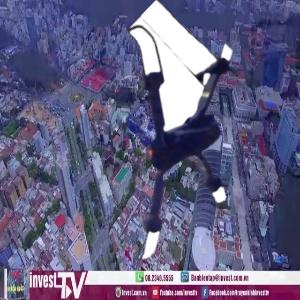drone: (61, 34, 284, 257)
